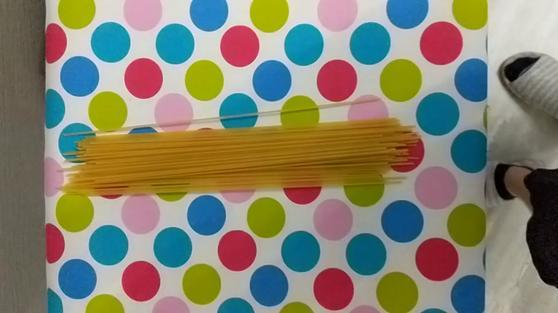spaghetti: (56, 90, 442, 214)
